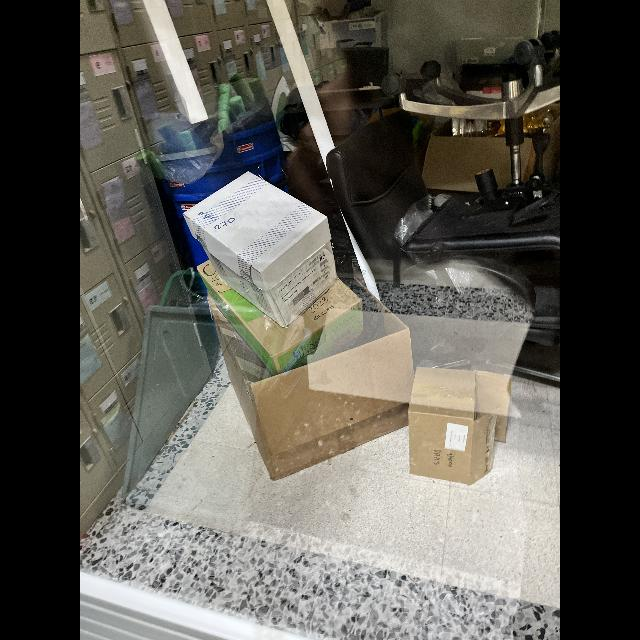cardboard_box: (229, 306, 413, 479), (178, 157, 346, 325), (195, 262, 368, 381), (379, 364, 521, 481)
